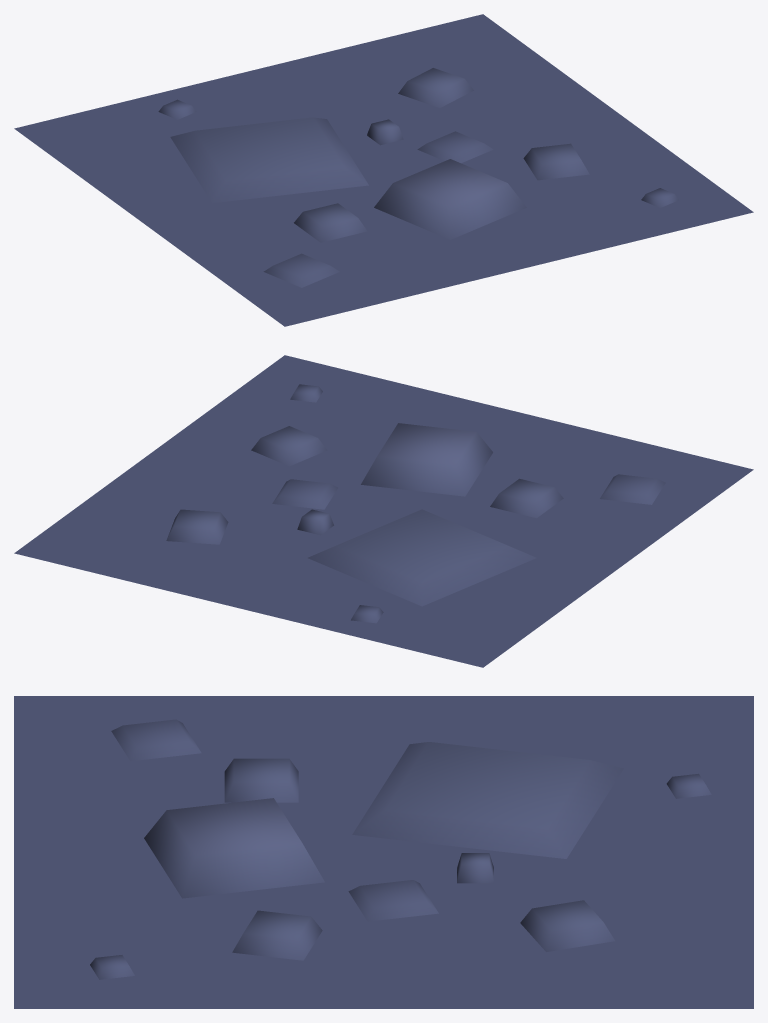
File: template-floor-detail.glb
3 views of the same model, one above another, from view 1: azimuth 30°, elevation 25°; view 2: azimuth 150°, elevation 25°; view 3: azimuth 270°, elevation 25° (orthographic). The views are drawn at different scales.
Parts seen in each view (by area): view 1: template-floor-detail; view 2: template-floor-detail; view 3: template-floor-detail.
Part boxes in pixels (left/top/right/bottom): template-floor-detail: left=14, top=14, right=753, bottom=326; template-floor-detail: left=14, top=355, right=753, bottom=667; template-floor-detail: left=14, top=696, right=753, bottom=1008.
Bounding box in the file's own units: 4 × 0.2 × 4.
